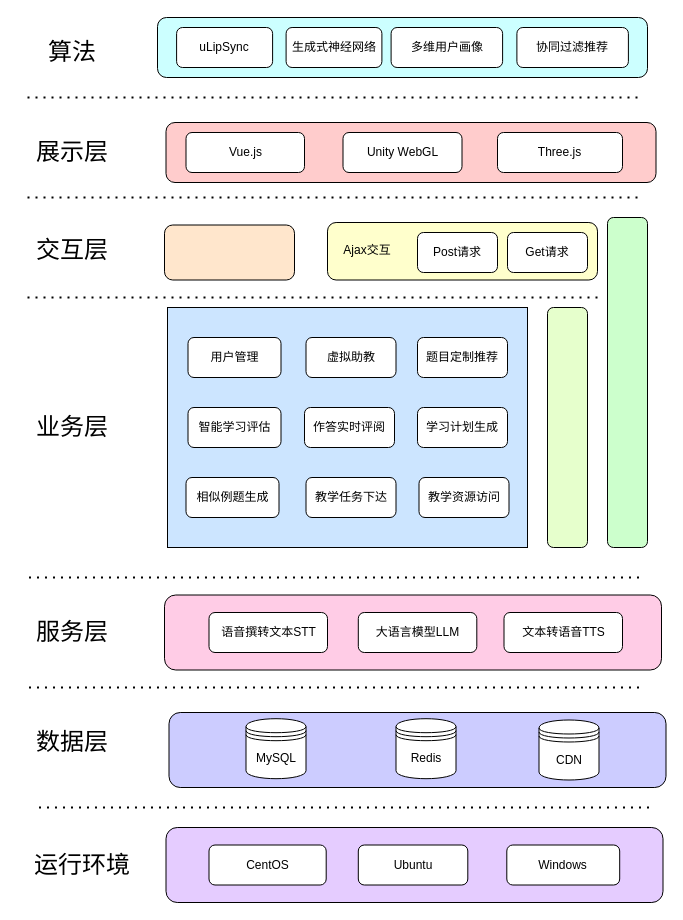
This 683x920 diagram has some shape labels left out. The shapes that lost their labels are listed below. From the top down, each one's box as (x1, y1, x2, y2) in pixels, then its label:
(164, 224, 294, 280): 模板引擎渲染
(606, 216, 648, 548): 权 限 控 制
(546, 306, 588, 548): 日 志 记 录
